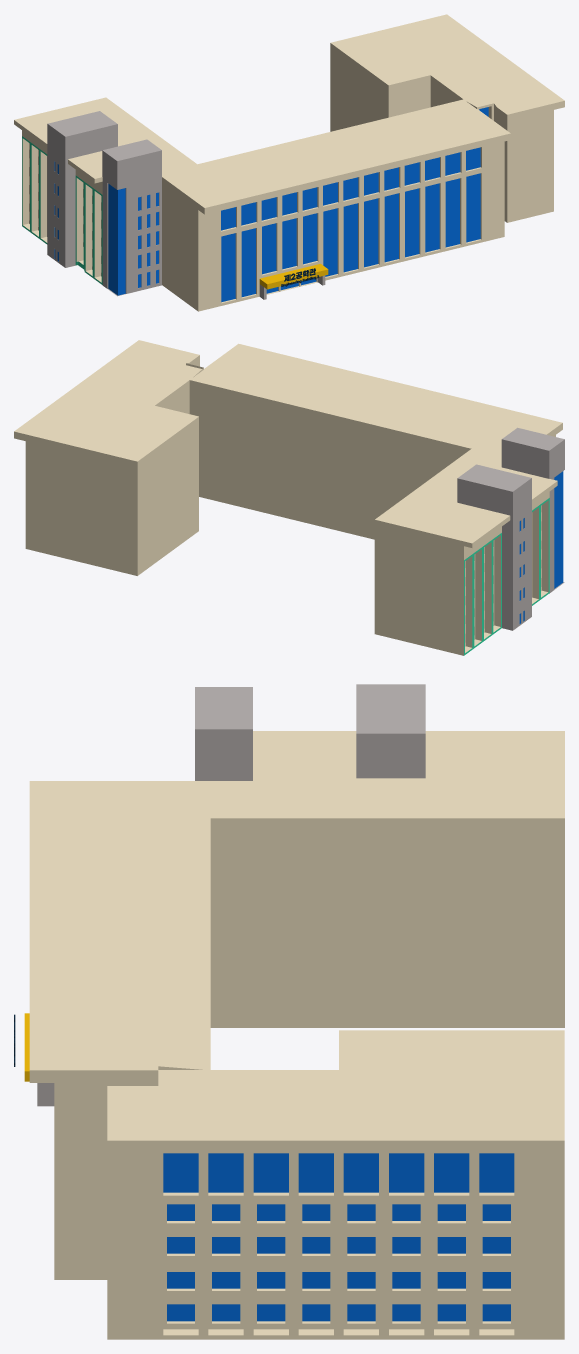
The model's file is 제2공학관.fbx.
3 views of the same model, one above another, from view 1: azimuth 30°, elevation 25°; view 2: azimuth 150°, elevation 25°; view 3: azimuth 270°, elevation 25° (orthographic). The views are drawn at different scales.
Parts seen in each view (by area): view 1: Cube_8, Cube, Cube_54, Cube_1, Cube_2, Cube_2_2, Cube_120; view 2: Cube_8, Cube, Cube_1, Cube_2, Cube_2_2; view 3: Cube, Cube_1, Cube_8, Cube_90, Cube_2.
Boxes of the visible parts, box(x1,y1,x2,y2) form: Cube_8: box(162, 99, 510, 311); Cube: box(330, 14, 564, 222); Cube_54: box(221, 147, 480, 302); Cube_1: box(14, 97, 197, 284); Cube_2: box(102, 139, 161, 296); Cube_2_2: box(108, 184, 125, 295); Cube_120: box(138, 192, 158, 287); Cube_8: box(189, 343, 562, 539); Cube: box(14, 340, 203, 575); Cube_1: box(374, 448, 557, 655); Cube_2: box(501, 427, 564, 593); Cube_2_2: box(554, 471, 563, 588); Cube: box(107, 1030, 564, 1339); Cube_1: box(206, 684, 564, 1027); Cube_8: box(24, 781, 210, 1279); Cube_90: box(163, 1153, 514, 1321); Cube_2: box(195, 687, 252, 780).
Bounding box in the file's own units: 1386 × 413 × 784.
